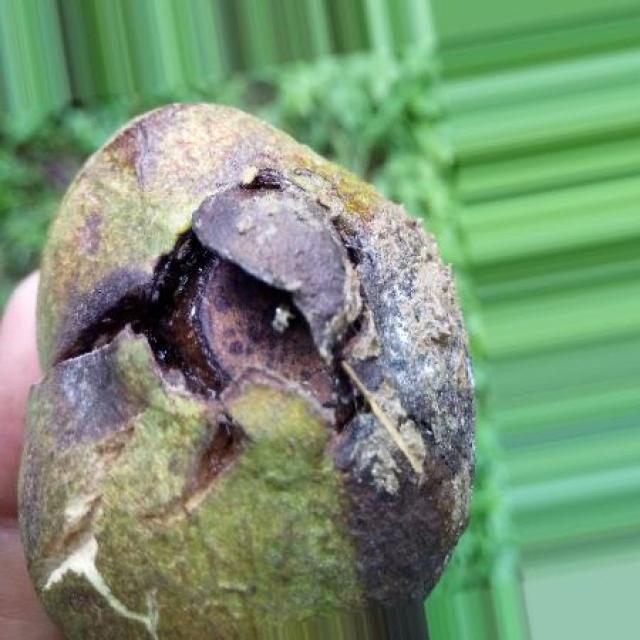Phytopthora: (20, 104, 474, 640)
